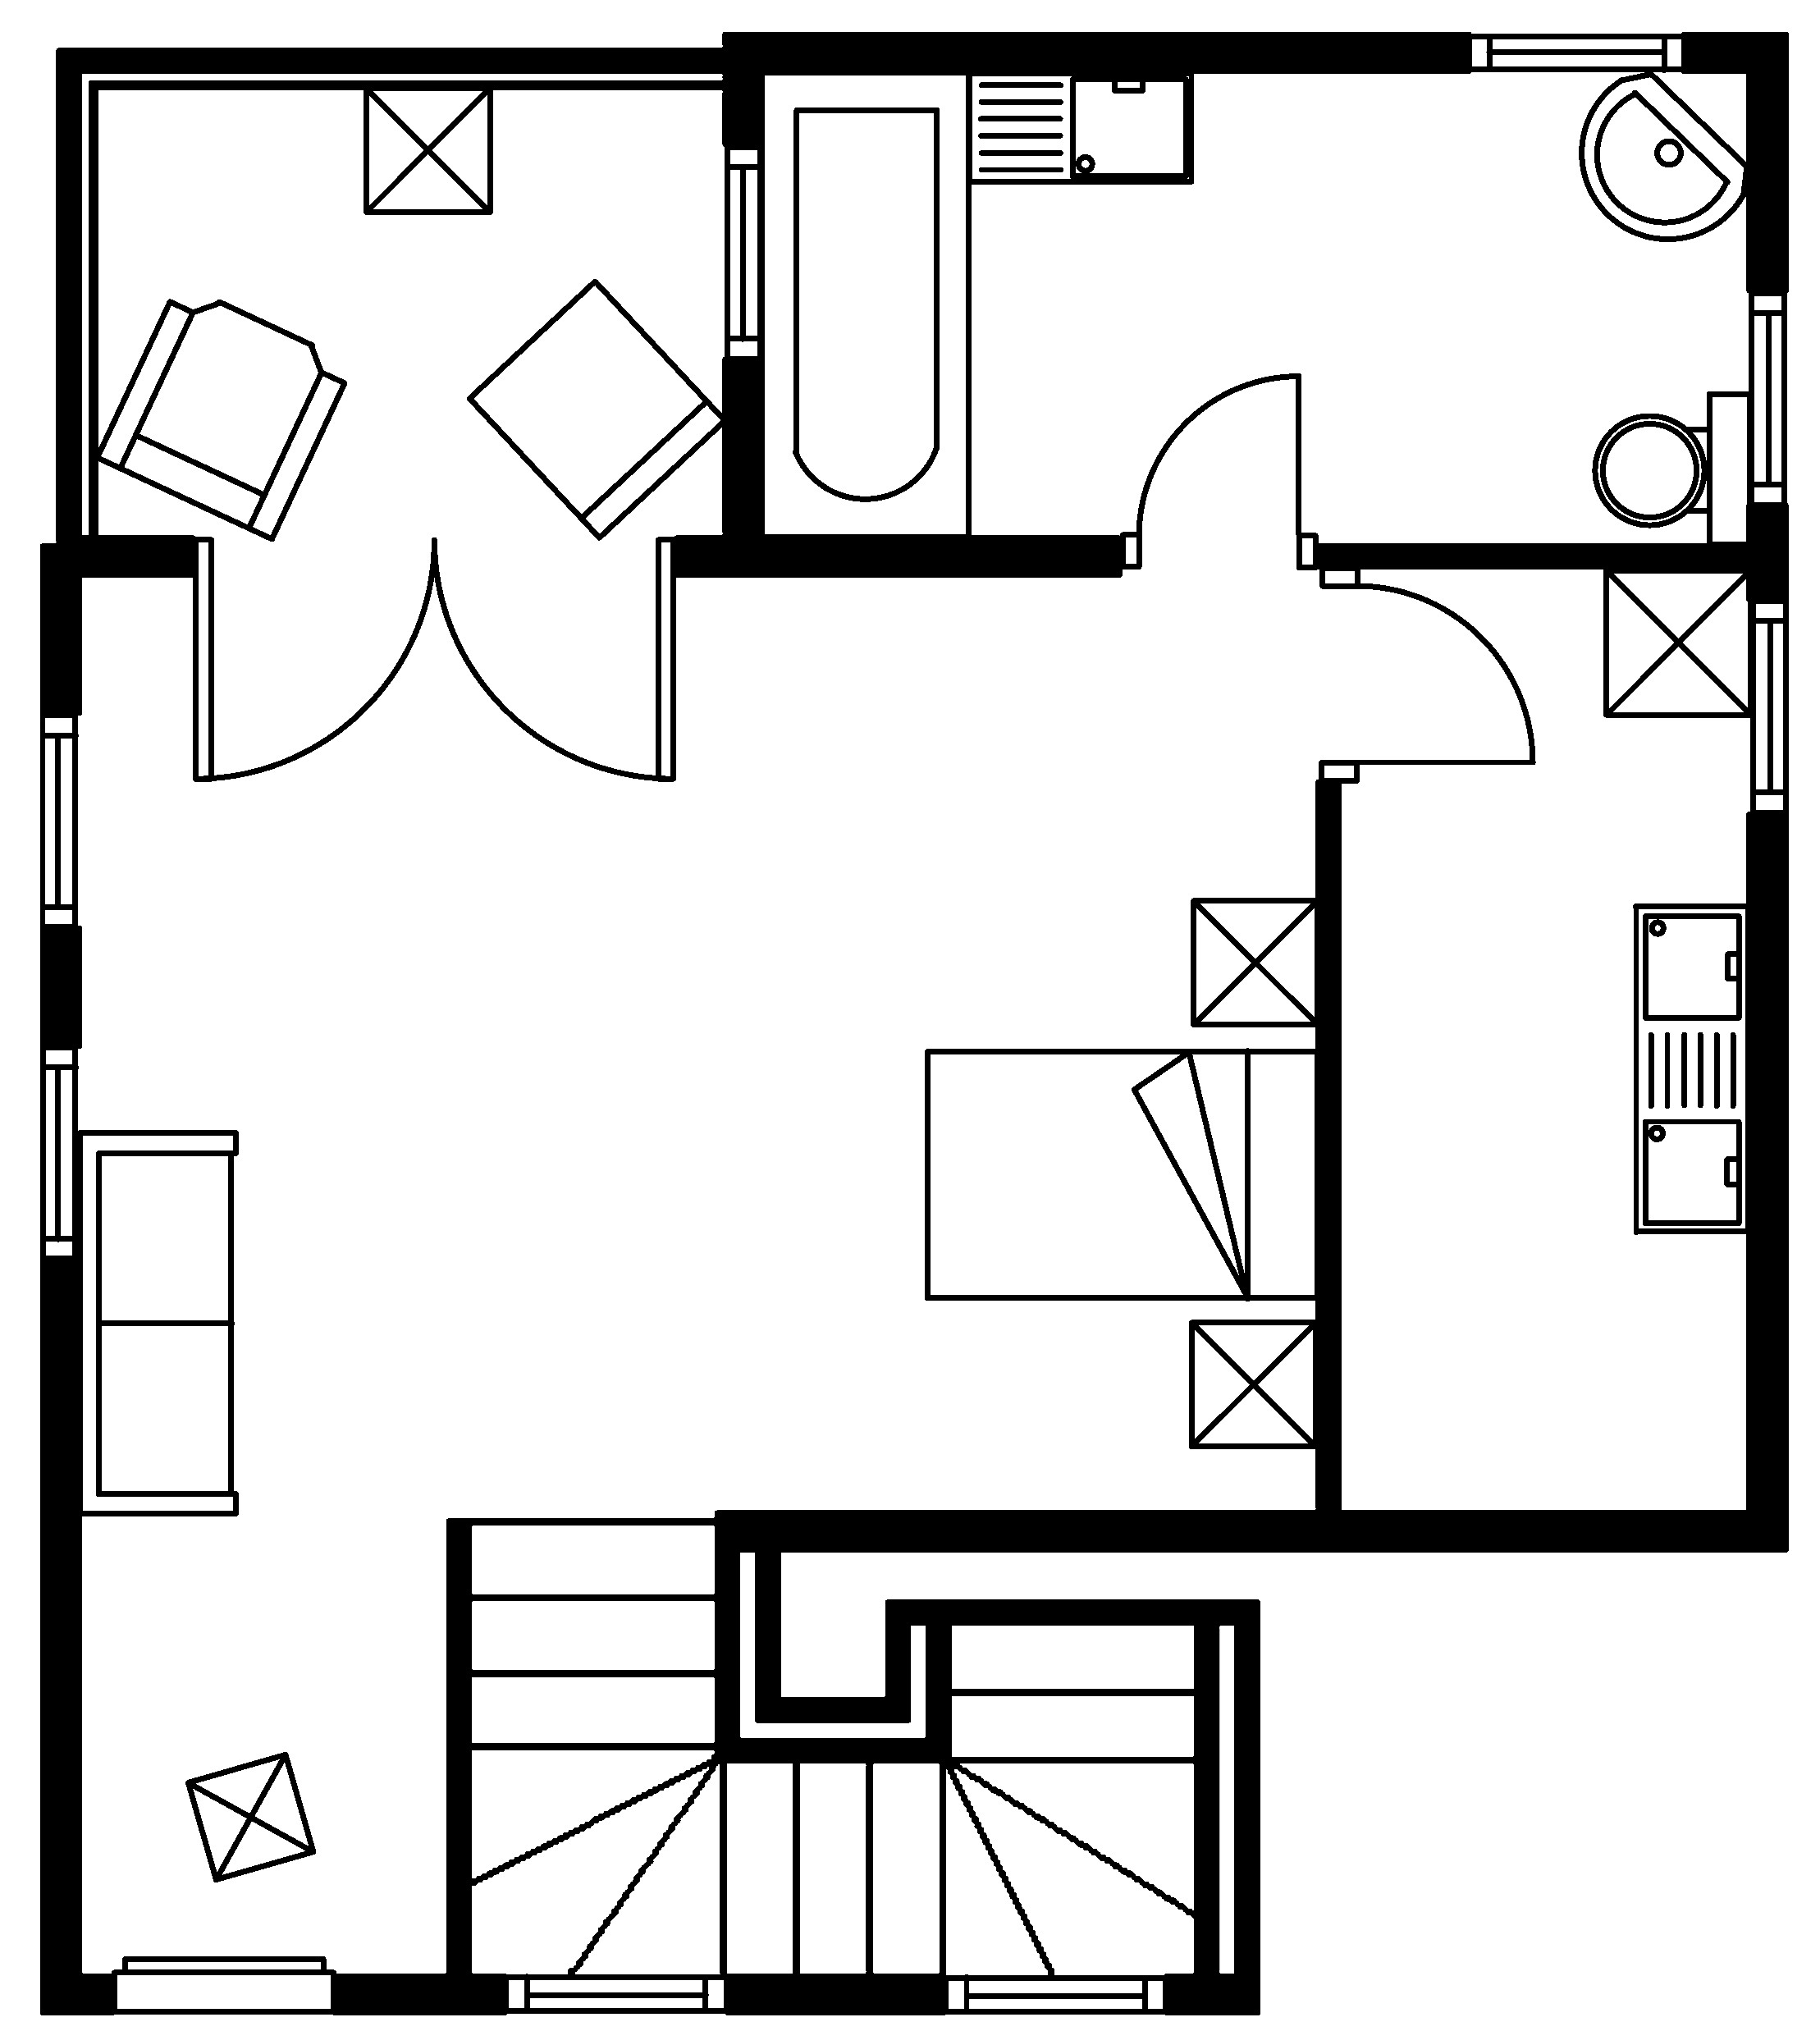armchair: (93, 297, 348, 543)
bed: (922, 1047, 1321, 1302)
coffee_table: (1602, 566, 1753, 719), (184, 1750, 316, 1883), (1186, 1318, 1319, 1449), (1189, 896, 1321, 1028), (362, 84, 494, 214)
large_sink: (1592, 388, 1753, 548)
large_sofa: (76, 1128, 239, 1516)
sink: (964, 69, 1195, 184)
small_sink: (1578, 70, 1750, 241)
small_sofa: (466, 276, 727, 541)
tub: (757, 69, 971, 539)
twin_sink: (1630, 901, 1750, 1235)
